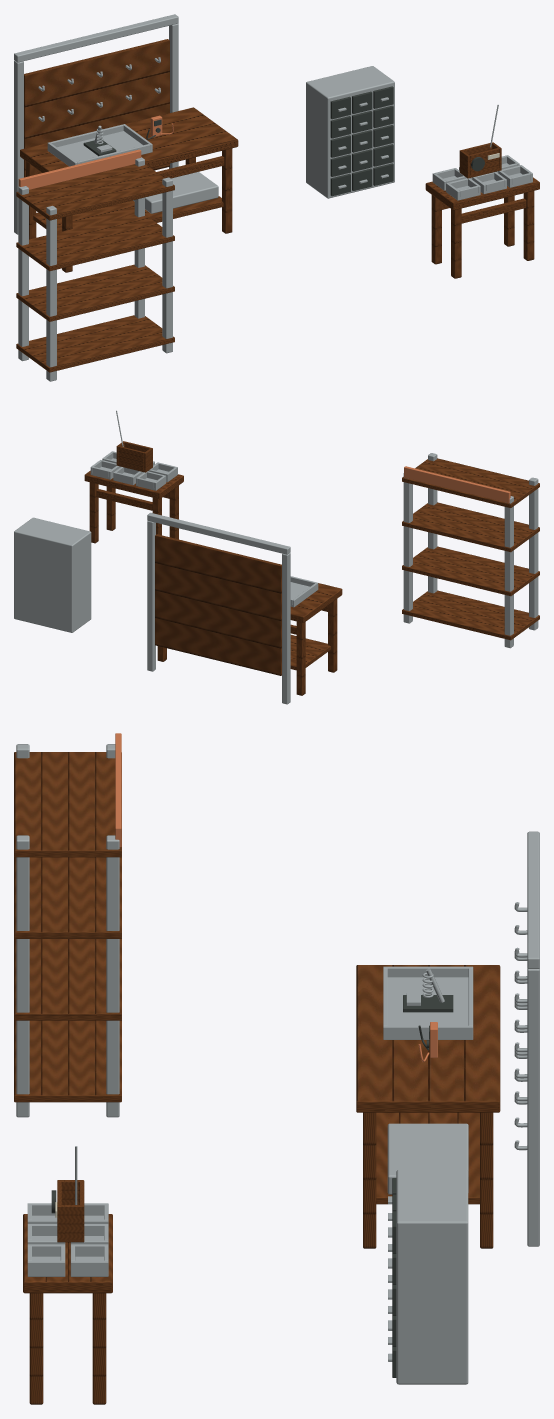
File: salvage-and-repair-workshop-electronics--a0ee9ffa-starter-scene__25508.glb
The picture shows the model from 3 angles, top to bottom: view 1: azimuth 30°, elevation 25°; view 2: azimuth 150°, elevation 25°; view 3: azimuth 270°, elevation 25°; orthographic projection. The views are drawn at different scales.
Parts seen in each view (by area): view 1: 007-repaired-equipment-shelf/1, 001-pegboard-tool-wall/1, 000-salvage-workbench/0, 007-repaired-equipment-shelf/0, 002-component-drawer-cabinet/0, 002-component-drawer-cabinet/1, 005-component-sorter/0, 001-pegboard-tool-wall/0, 000-salvage-workbench/1, 005-component-sorter/1, 007-repaired-equipment-shelf/2, 006-opened-radio/0; view 2: 001-pegboard-tool-wall/1, 007-repaired-equipment-shelf/1, 002-component-drawer-cabinet/0, 007-repaired-equipment-shelf/0, 001-pegboard-tool-wall/0, 000-salvage-workbench/0, 005-component-sorter/0, 005-component-sorter/1, 007-repaired-equipment-shelf/2, 006-opened-radio/0, 000-salvage-workbench/1; view 3: 007-repaired-equipment-shelf/1, 000-salvage-workbench/0, 002-component-drawer-cabinet/0, 000-salvage-workbench/1, 007-repaired-equipment-shelf/0, 001-pegboard-tool-wall/0, 005-component-sorter/0, 005-component-sorter/1, 006-opened-radio/0, 002-component-drawer-cabinet/1.
Part boxes in pixels (x1=…): 007-repaired-equipment-shelf/1: x1=16, y1=164, x2=174, y2=372; 001-pegboard-tool-wall/1: x1=24, y1=39, x2=169, y2=177; 000-salvage-workbench/0: x1=20, y1=107, x2=238, y2=272; 007-repaired-equipment-shelf/0: x1=18, y1=157, x2=172, y2=381; 002-component-drawer-cabinet/0: x1=306, y1=66, x2=394, y2=198; 002-component-drawer-cabinet/1: x1=330, y1=86, x2=393, y2=196; 005-component-sorter/0: x1=425, y1=177, x2=539, y2=278; 001-pegboard-tool-wall/0: x1=14, y1=14, x2=178, y2=234; 000-salvage-workbench/1: x1=47, y1=124, x2=218, y2=213; 005-component-sorter/1: x1=432, y1=155, x2=532, y2=200; 007-repaired-equipment-shelf/2: x1=18, y1=149, x2=141, y2=189; 006-opened-radio/0: x1=459, y1=142, x2=501, y2=178; 001-pegboard-tool-wall/1: x1=155, y1=534, x2=281, y2=675; 007-repaired-equipment-shelf/1: x1=402, y1=458, x2=539, y2=640; 002-component-drawer-cabinet/0: x1=14, y1=517, x2=91, y2=632; 007-repaired-equipment-shelf/0: x1=403, y1=453, x2=538, y2=648; 001-pegboard-tool-wall/0: x1=147, y1=512, x2=290, y2=704; 000-salvage-workbench/0: x1=157, y1=583, x2=342, y2=695; 005-component-sorter/0: x1=84, y1=470, x2=183, y2=543; 005-component-sorter/1: x1=90, y1=451, x2=177, y2=490; 007-repaired-equipment-shelf/2: x1=404, y1=466, x2=510, y2=503; 006-opened-radio/0: x1=116, y1=441, x2=152, y2=472; 000-salvage-workbench/1: x1=290, y1=576, x2=318, y2=607; 007-repaired-equipment-shelf/1: x1=14, y1=752, x2=121, y2=1102; 000-salvage-workbench/0: x1=356, y1=965, x2=500, y2=1248; 002-component-drawer-cabinet/0: x1=388, y1=1169, x2=468, y2=1384; 000-salvage-workbench/1: x1=383, y1=966, x2=473, y2=1194; 007-repaired-equipment-shelf/0: x1=16, y1=744, x2=119, y2=1117; 001-pegboard-tool-wall/0: x1=514, y1=831, x2=539, y2=1246; 005-component-sorter/0: x1=23, y1=1214, x2=112, y2=1404; 005-component-sorter/1: x1=27, y1=1203, x2=108, y2=1276; 006-opened-radio/0: x1=57, y1=1180, x2=84, y2=1242; 002-component-drawer-cabinet/1: x1=392, y1=1178, x2=396, y2=1377.
Size of the model in its own units: 5.1 by 1.77 by 2.92.
Materials: 5 (1 with a texture image).
